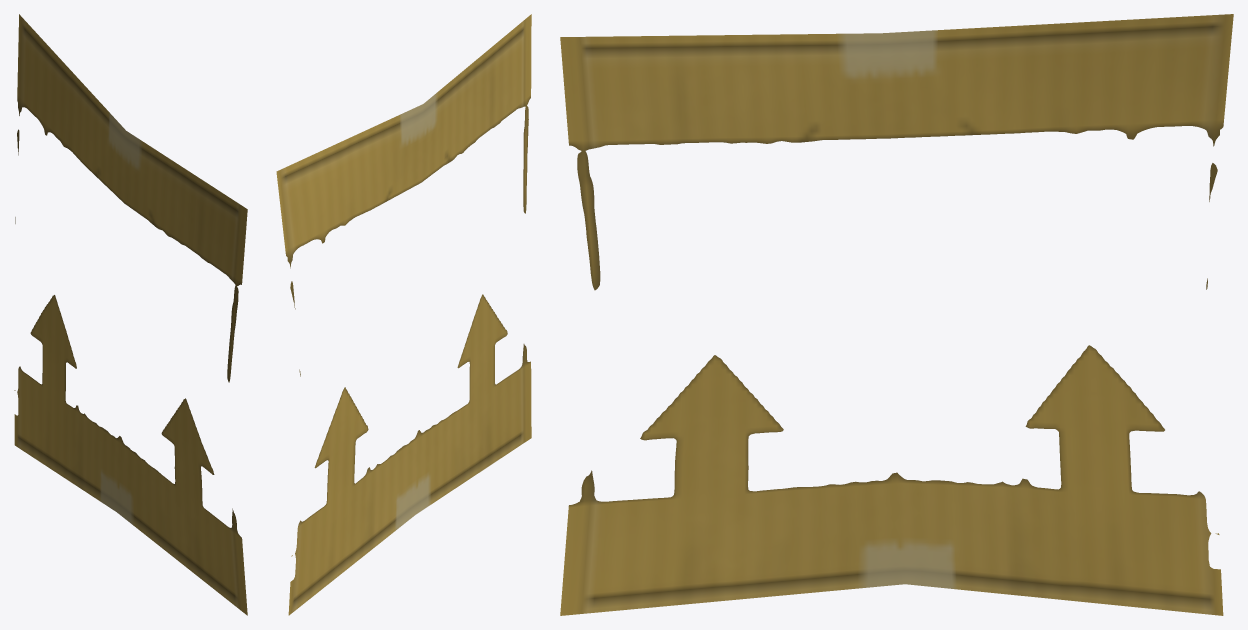
File: p_mesh_carrotbox_part02.fbx
The picture shows the model from 3 angles, left to right: view 1: azimuth 30°, elevation 25°; view 2: azimuth 150°, elevation 25°; view 3: azimuth 270°, elevation 25°; orthographic projection. The views are drawn at different scales.
Visible parts, largest first — view 1: p_mesh_containers_vegboxcarrot_part02; view 2: p_mesh_containers_vegboxcarrot_part02; view 3: p_mesh_containers_vegboxcarrot_part02.
Part boxes in pixels (bbox=[...]): p_mesh_containers_vegboxcarrot_part02: bbox=[14, 14, 247, 615]; p_mesh_containers_vegboxcarrot_part02: bbox=[276, 14, 531, 615]; p_mesh_containers_vegboxcarrot_part02: bbox=[560, 14, 1233, 615].
Size of the model in its own units: 0.1368 by 3.12 by 3.13.
